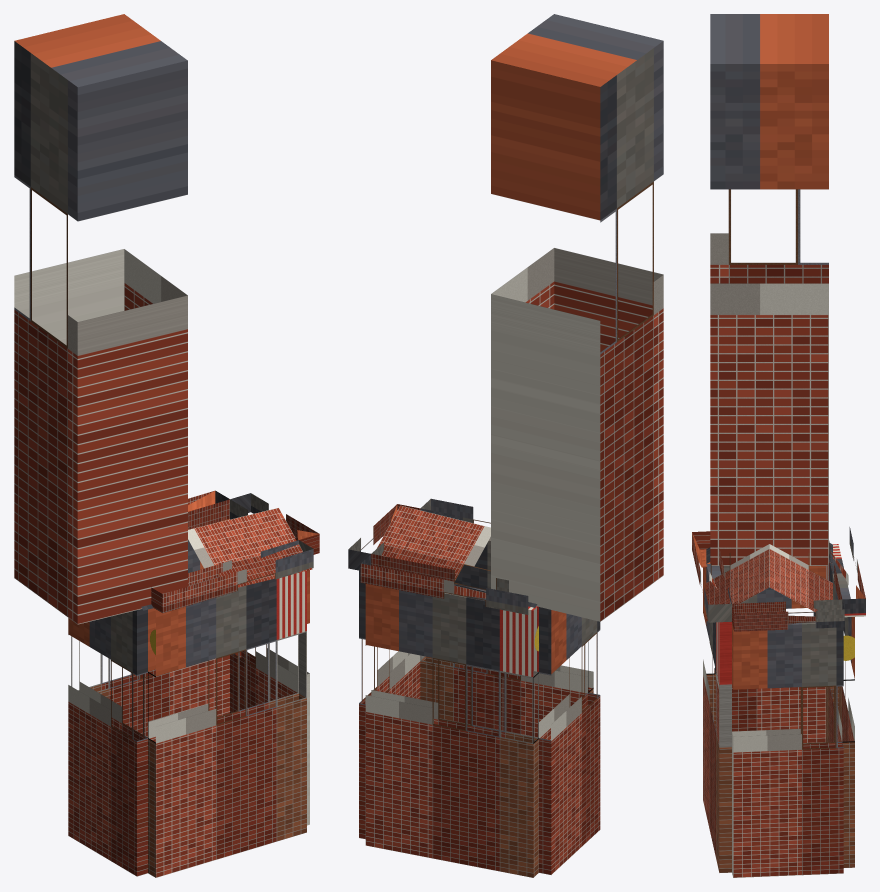
The picture shows the model from 3 angles, left to right: view 1: azimuth 30°, elevation 25°; view 2: azimuth 150°, elevation 25°; view 3: azimuth 270°, elevation 25°; orthographic projection. The views are drawn at different scales.
Parts seen in each view (by area): view 1: 1106965467__chimney_0_xb, 1106965467__wall_0_xb, 1106965467__wall_1_xb, 1106965467__wall_2_xb, 1106965467_roof_-1_xb, 1106965467__wall_3_xb, 1106965467__cornice_0, 1106965467__cornice_3, 1106965467__cornice_2; view 2: 1106965467__chimney_0_xb, 1106965467__wall_2_xb, 1106965467__wall_1_xb, 1106965467__wall_0_xb, 1106965467_roof_1_xb, 1106965467__cornice_2, 1106965467__wall_3_xb, 1106965467__cornice_3, 1106965467__cornice_0; view 3: 1106965467__chimney_0_xb, 1106965467__wall_3_xb, 1106965467__wall_0_xb, 1106965467__wall_1_xb, 1106965467__wall_2_xb, 1106965467__cornice_3, 1106965467_roof_1_xb, 1106965467_roof_-1_xb, 1106965467__cornice_0, 1106965467__cornice_2.
Part boxes in pixels (bbox=[...]): 1106965467__chimney_0_xb: bbox=[14, 14, 187, 624]; 1106965467__wall_0_xb: bbox=[148, 571, 306, 877]; 1106965467__wall_1_xb: bbox=[68, 609, 147, 876]; 1106965467__wall_2_xb: bbox=[71, 518, 229, 737]; 1106965467_roof_-1_xb: bbox=[141, 507, 312, 610]; 1106965467__wall_3_xb: bbox=[230, 518, 309, 825]; 1106965467__cornice_0: bbox=[151, 540, 313, 613]; 1106965467__cornice_3: bbox=[230, 493, 319, 554]; 1106965467__cornice_2: bbox=[188, 490, 229, 529]; 1106965467__chimney_0_xb: bbox=[491, 14, 663, 621]; 1106965467__wall_2_xb: bbox=[365, 583, 538, 877]; 1106965467__wall_1_xb: bbox=[539, 607, 600, 874]; 1106965467__wall_0_xb: bbox=[420, 537, 593, 737]; 1106965467_roof_1_xb: bbox=[377, 505, 537, 607]; 1106965467__cornice_2: bbox=[360, 554, 528, 614]; 1106965467__wall_3_xb: bbox=[359, 570, 420, 839]; 1106965467__cornice_3: bbox=[348, 504, 420, 570]; 1106965467__cornice_0: bbox=[420, 498, 490, 523]; 1106965467__chimney_0_xb: bbox=[710, 14, 828, 565]; 1106965467__wall_3_xb: bbox=[732, 621, 843, 877]; 1106965467__wall_0_xb: bbox=[703, 549, 731, 872]; 1106965467__wall_1_xb: bbox=[714, 566, 825, 743]; 1106965467__wall_2_xb: bbox=[826, 544, 854, 867]; 1106965467__cornice_3: bbox=[732, 599, 844, 631]; 1106965467_roof_1_xb: bbox=[769, 543, 832, 612]; 1106965467_roof_-1_xb: bbox=[706, 544, 769, 621]; 1106965467__cornice_0: bbox=[692, 531, 731, 622]; 1106965467__cornice_2: bbox=[829, 527, 865, 617].
Bounding box in the file's own units: 0.3473 × 1.05 × 0.2199.
Materials: 1 (1 with a texture image).
